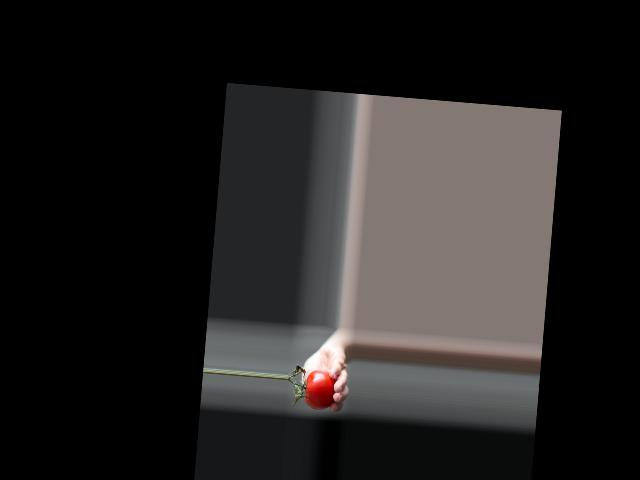tomato: (303, 368, 337, 411)
